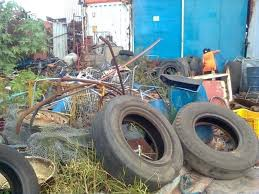tire: (91, 96, 184, 188), (174, 99, 259, 181)
